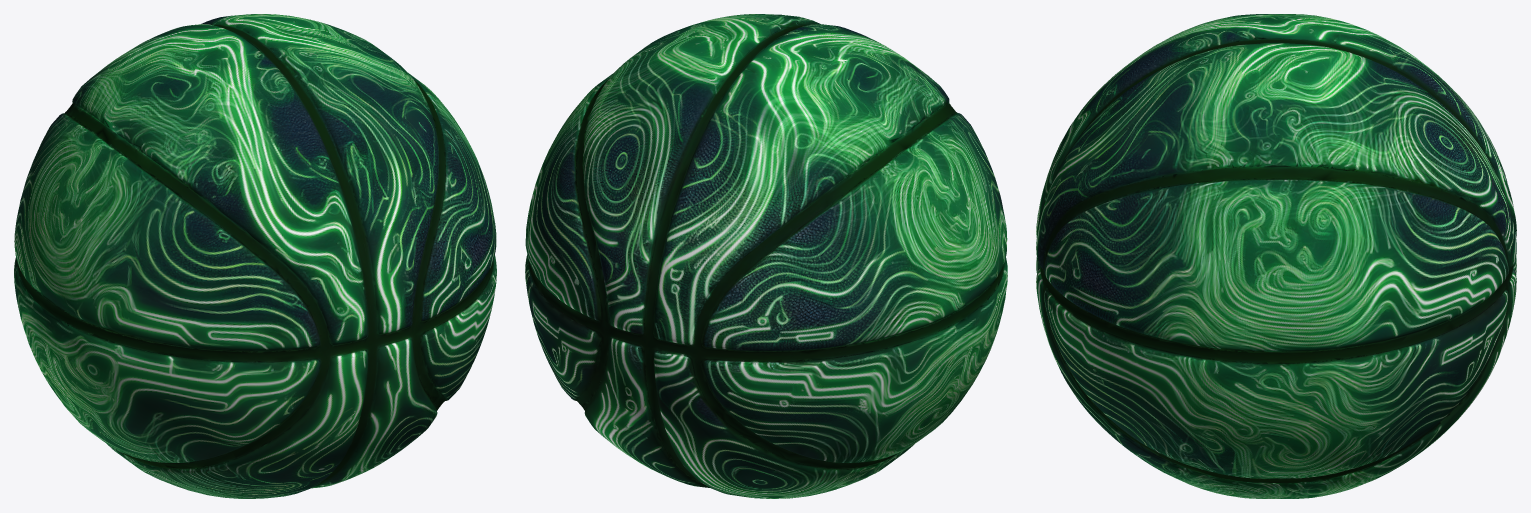
File: palla_verde_mobile.glb
3 views of the same model, side by side, from view 1: azimuth 30°, elevation 25°; view 2: azimuth 150°, elevation 25°; view 3: azimuth 270°, elevation 25° (orthographic).
Parts seen in each view (by area): view 1: node_0; view 2: node_0; view 3: node_0.
Boxes of the visible parts, box(x1,y1,x2,y2) form: node_0: box(14, 14, 496, 498); node_0: box(525, 14, 1007, 498); node_0: box(1036, 14, 1516, 498).
Bounding box in the file's own units: 1.18 × 1.18 × 1.17.
1 material, 1 textured.
